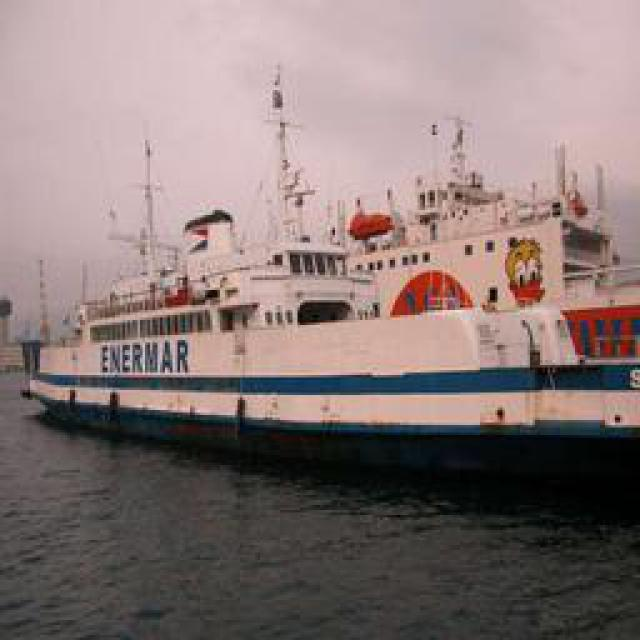Ship: (26, 92, 636, 450)
